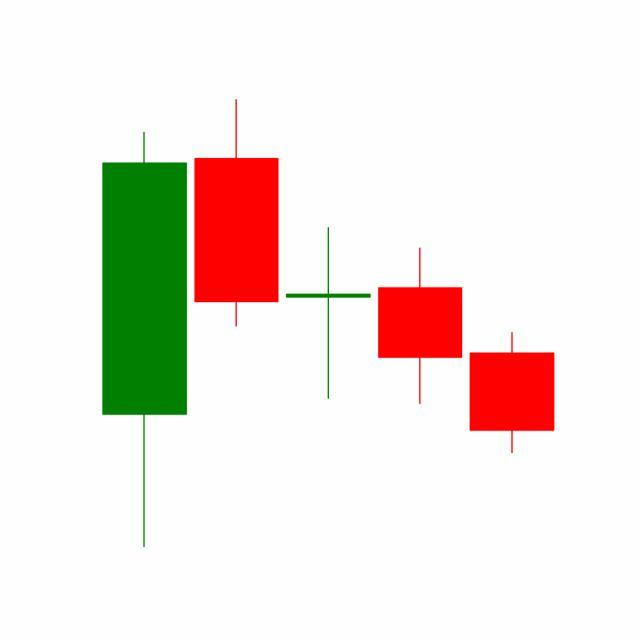Three Outside Up-Down: (280, 225, 555, 456)
